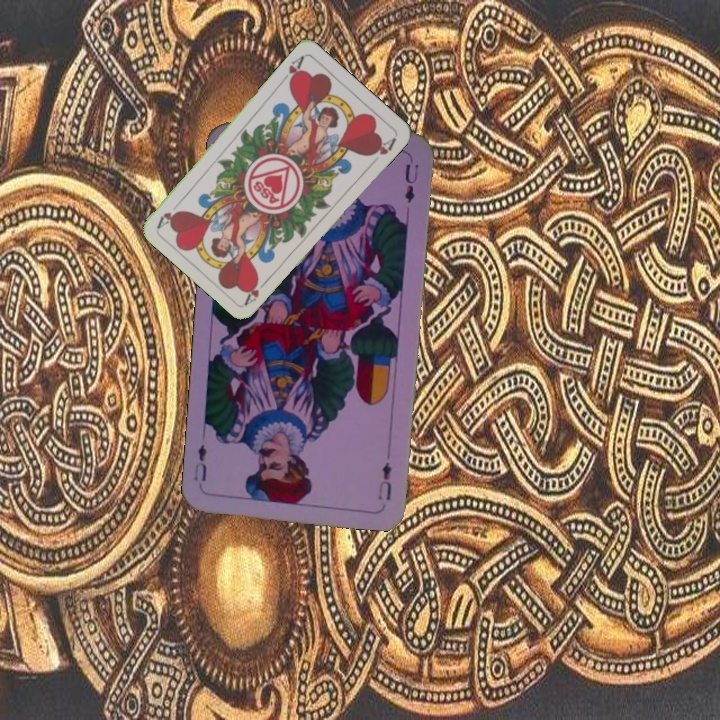EU: (374, 457, 394, 503)
HA: (241, 273, 272, 307), (277, 52, 307, 87)
